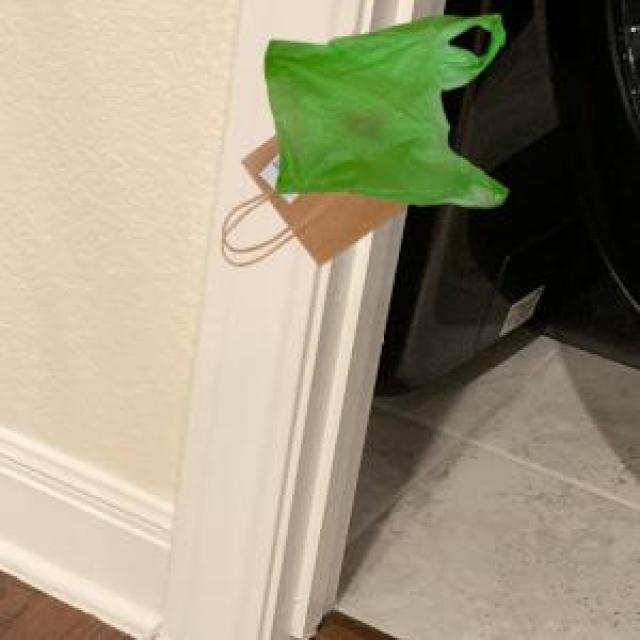paper: (239, 132, 405, 260)
